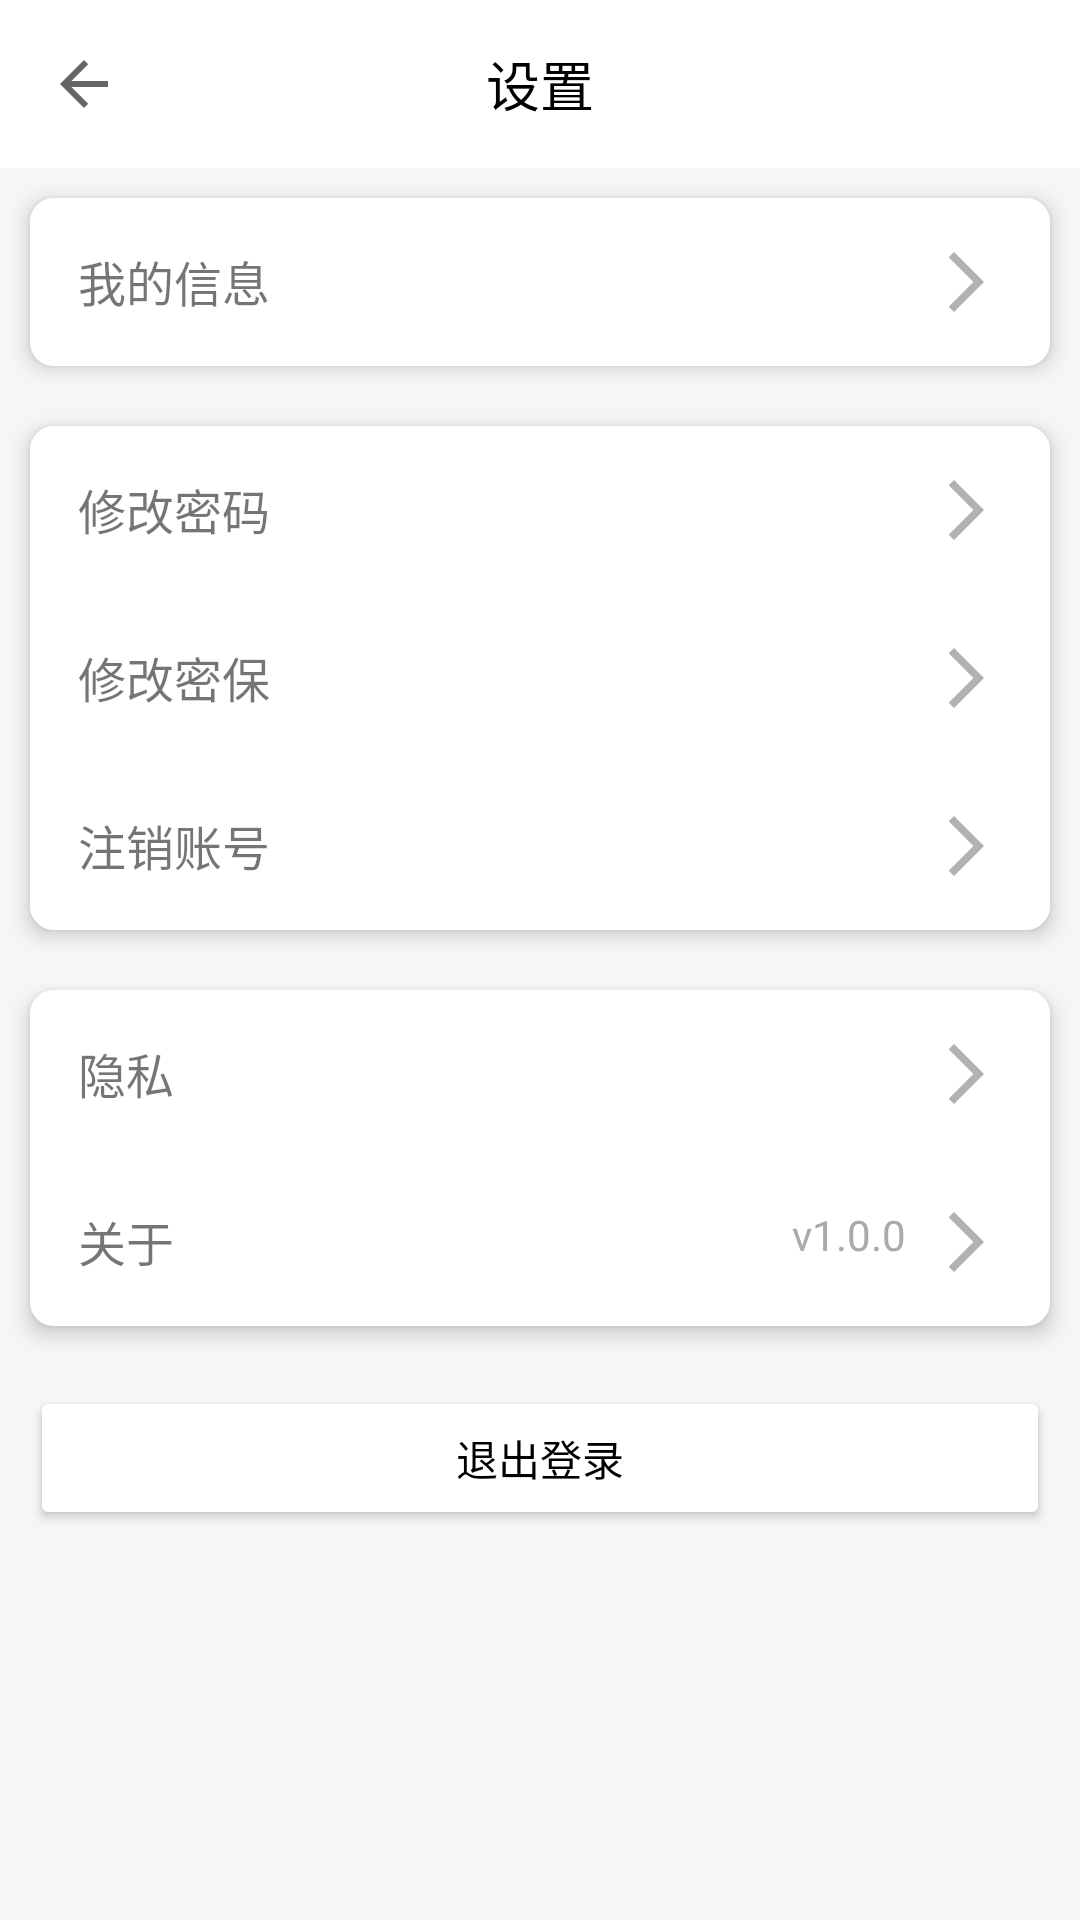

Icons on this 1080×1920 Android screen, each with the point to tap as [x,y]:
箭头: [966,282], [966,510], [966,678], [966,846], [966,1074], [966,1242]
